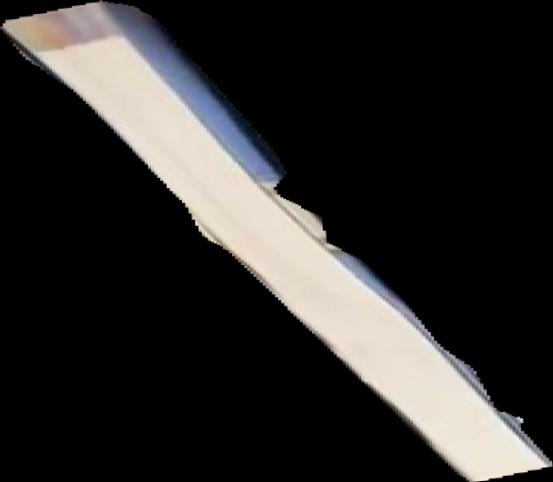backward: (1, 1, 553, 482)
